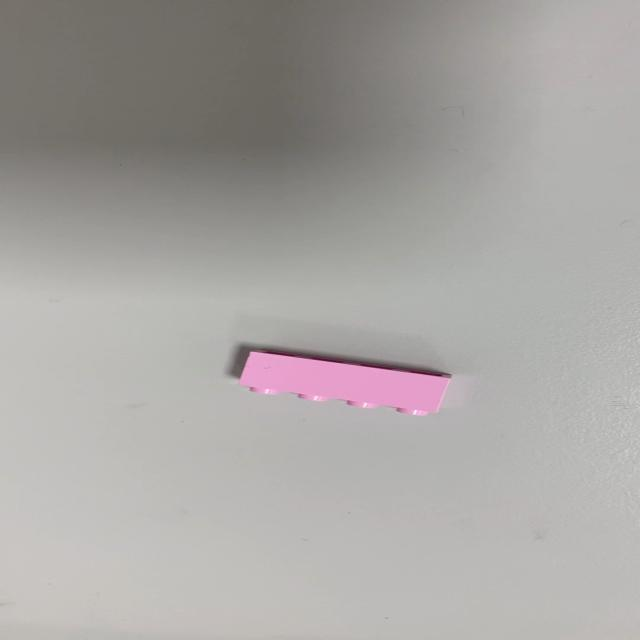C4x1x1: (236, 348, 451, 416)
